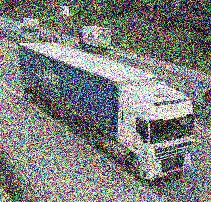truck: (18, 42, 194, 181), (77, 25, 111, 51), (19, 17, 40, 32)
